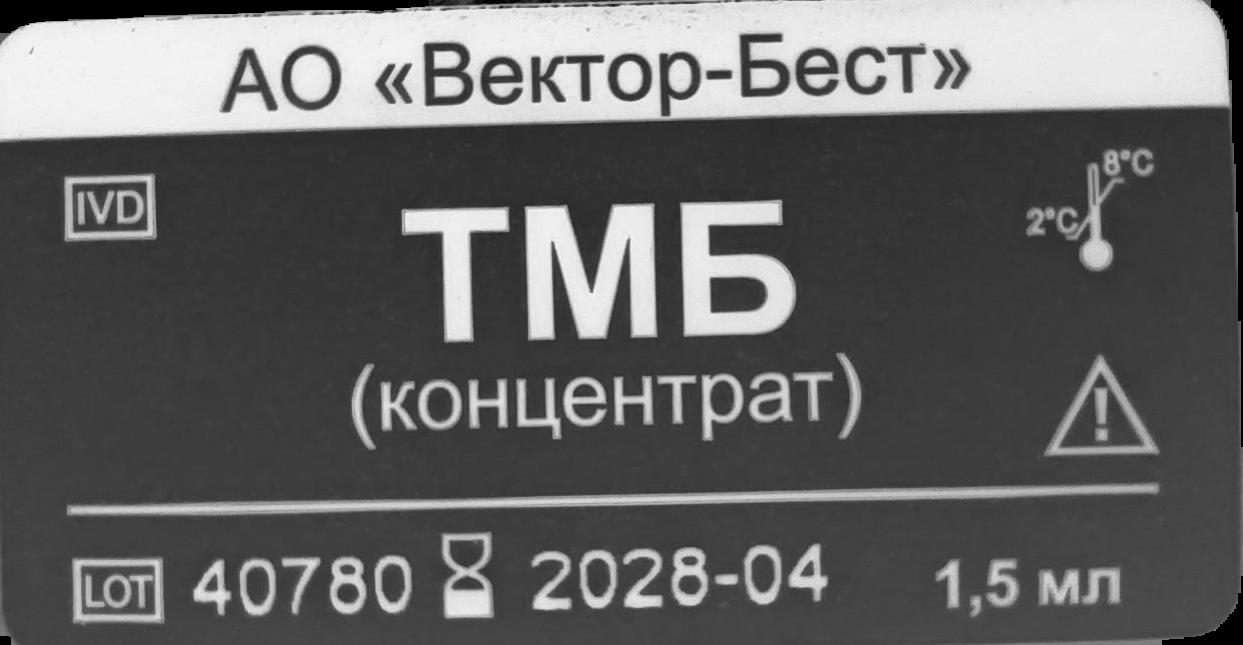something: (1020, 148, 1165, 280), (1044, 352, 1166, 464), (52, 173, 166, 250), (69, 556, 169, 622), (439, 530, 498, 620)
text: (340, 196, 865, 449), (215, 24, 995, 120), (521, 548, 836, 624), (190, 546, 416, 625), (940, 549, 1123, 624)
